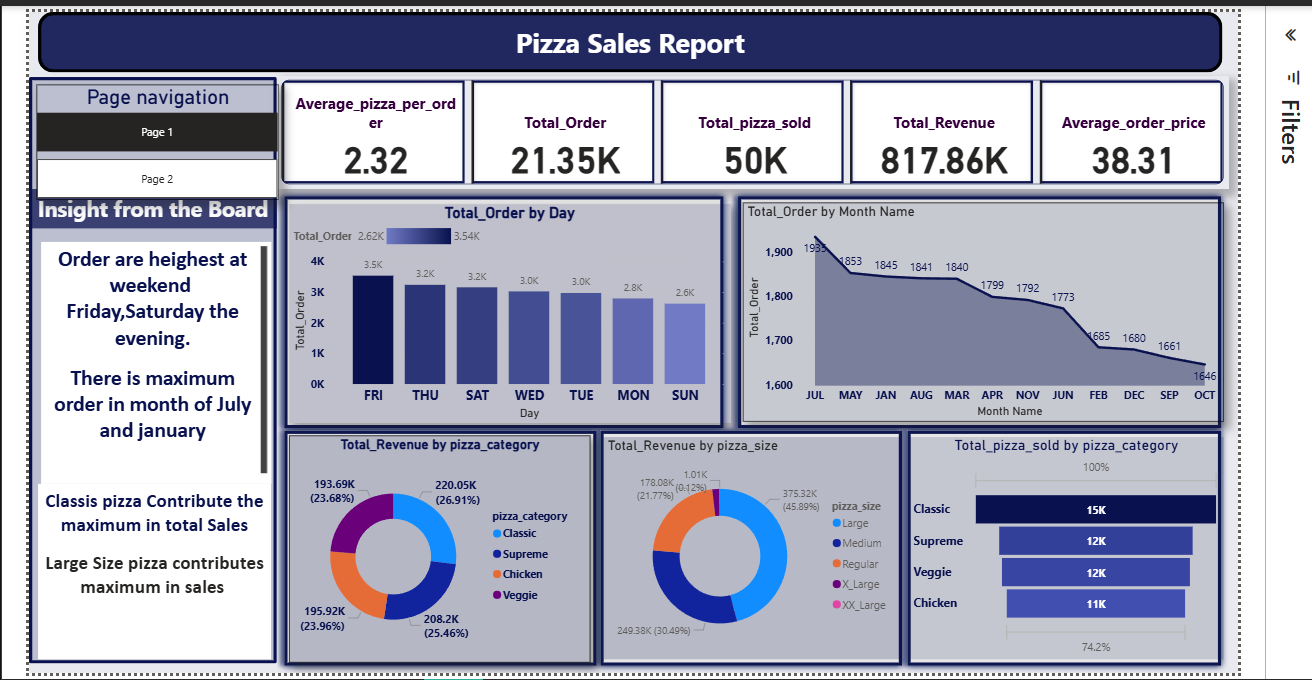

The dashboard page shown, as its layout file describes it:
{"tool":"powerbi","page":{"name":"Page 1","canvas":[1500,820],"ordinal":0},"visuals":[{"type":"cardVisual","fields":{"Data":["pizza_sales.Average_pizza_per_order","pizza_sales.Total_Order","pizza_sales.Total_pizza_sold","pizza_sales.Total_Revenue","pizza_sales.Average_order_price"]},"box":[307.7,78.8,1180,140.7],"z":0},{"type":"shape","box":[307.7,219.5,562.8,305.8],"z":2000},{"type":"clusteredColumnChart","fields":{"Category":["pizza_sales.Day"],"Y":["pizza_sales.Total_Order"]},"box":[322.7,238.3,547.8,272],"z":3000},{"type":"shape","box":[11.3,0,1468.9,75],"z":3500},{"type":"shape","box":[870.5,219.5,617.2,305.8],"z":4000},{"type":"areaChart","fields":{"Category":["pizza_sales.Month Name"],"Y":["pizza_sales.Total_Order"]},"box":[885.5,236.4,596.6,272],"z":5000},{"type":"shape","box":[307.7,510.3,405.2,309.5],"z":6000},{"type":"shape","box":[699.8,510.3,392.1,309.5],"z":7000},{"type":"shape","box":[1080.6,510.3,407.1,309.5],"z":8000},{"type":"donutChart","fields":{"Category":["pizza_sales.pizza_category"],"Y":["pizza_sales.Total_Revenue"]},"box":[322.7,525.3,373.3,281.4],"z":9000},{"type":"donutChart","fields":{"Category":["pizza_sales.pizza_size"],"Y":["pizza_sales.Total_Revenue"]},"box":[712.9,527.2,367.7,275.8],"z":10000},{"type":"funnel","fields":{"Category":["pizza_sales.pizza_category"],"Y":["pizza_sales.Total_pizza_sold"]},"box":[1091.8,527.2,390.2,275.8],"z":11000},{"type":"shape","box":[0,80,307.3,727.3],"z":12000},{"type":"textbox","box":[0,220,307.3,49.1],"z":13000},{"type":"textbox","box":[14.5,285.5,285.5,300],"z":14000},{"type":"textbox","box":[11.3,585.3,288.9,217.6],"z":15000},{"type":"pageNavigator","title":"Page navigation","box":[10,90,300,142.5],"z":15001}]}

Visuals, with their boxes on the page's 1500x820 design canvas (x1, y1, x2, y2). These are canvas units, not pixel positions in the 1312x680 screenshot, which may show the page scaled, cropped or inside an application window:
cardVisual - pizza_sales.Average_pizza_per_order x pizza_sales.Total_Order: locate(308, 79, 1488, 220)
shape: locate(308, 220, 870, 525)
clusteredColumnChart - pizza_sales.Day x pizza_sales.Total_Order: locate(323, 238, 870, 510)
shape: locate(11, 0, 1480, 75)
shape: locate(870, 220, 1488, 525)
areaChart - pizza_sales.Month Name x pizza_sales.Total_Order: locate(886, 236, 1482, 508)
shape: locate(308, 510, 713, 820)
shape: locate(700, 510, 1092, 820)
shape: locate(1081, 510, 1488, 820)
donutChart - pizza_sales.pizza_category x pizza_sales.Total_Revenue: locate(323, 525, 696, 807)
donutChart - pizza_sales.pizza_size x pizza_sales.Total_Revenue: locate(713, 527, 1081, 803)
funnel - pizza_sales.pizza_category x pizza_sales.Total_pizza_sold: locate(1092, 527, 1482, 803)
shape: locate(0, 80, 307, 807)
textbox: locate(0, 220, 307, 269)
textbox: locate(14, 286, 300, 586)
textbox: locate(11, 585, 300, 803)
"Page navigation" pageNavigator: locate(10, 90, 310, 232)
